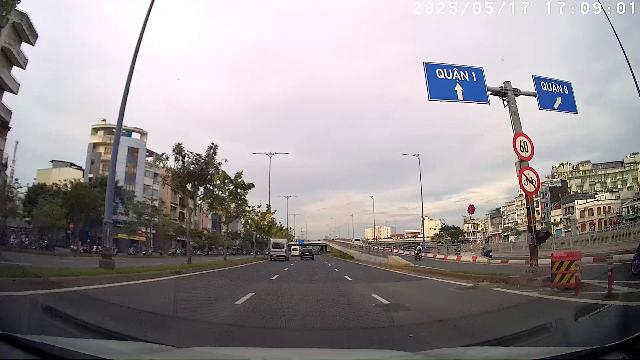127-toc-do-toi-da-60: (512, 133, 535, 161)
